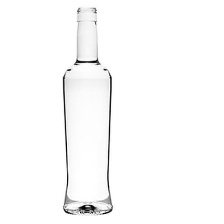bottle: (53, 4, 118, 216)
